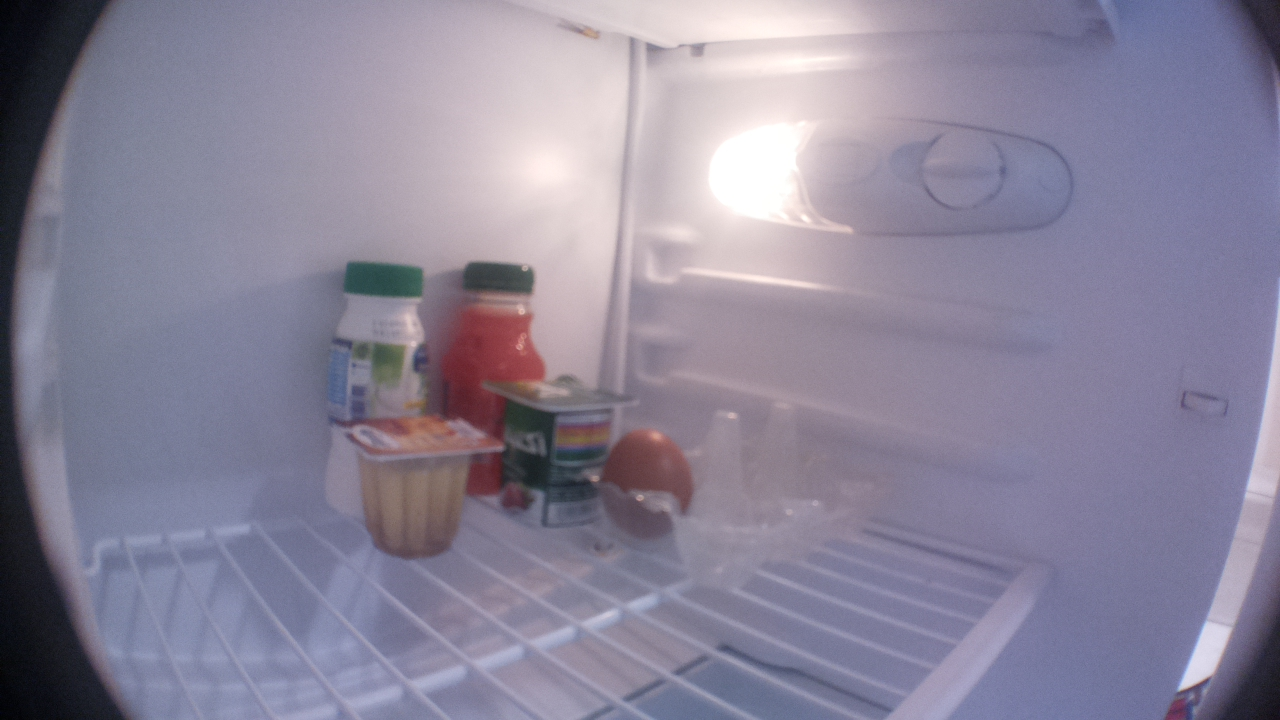caramel: (337, 416, 503, 562)
egg: (599, 421, 700, 515)
juice: (444, 244, 548, 495)
laban: (325, 255, 434, 415)
yoghurt: (483, 373, 635, 536)
